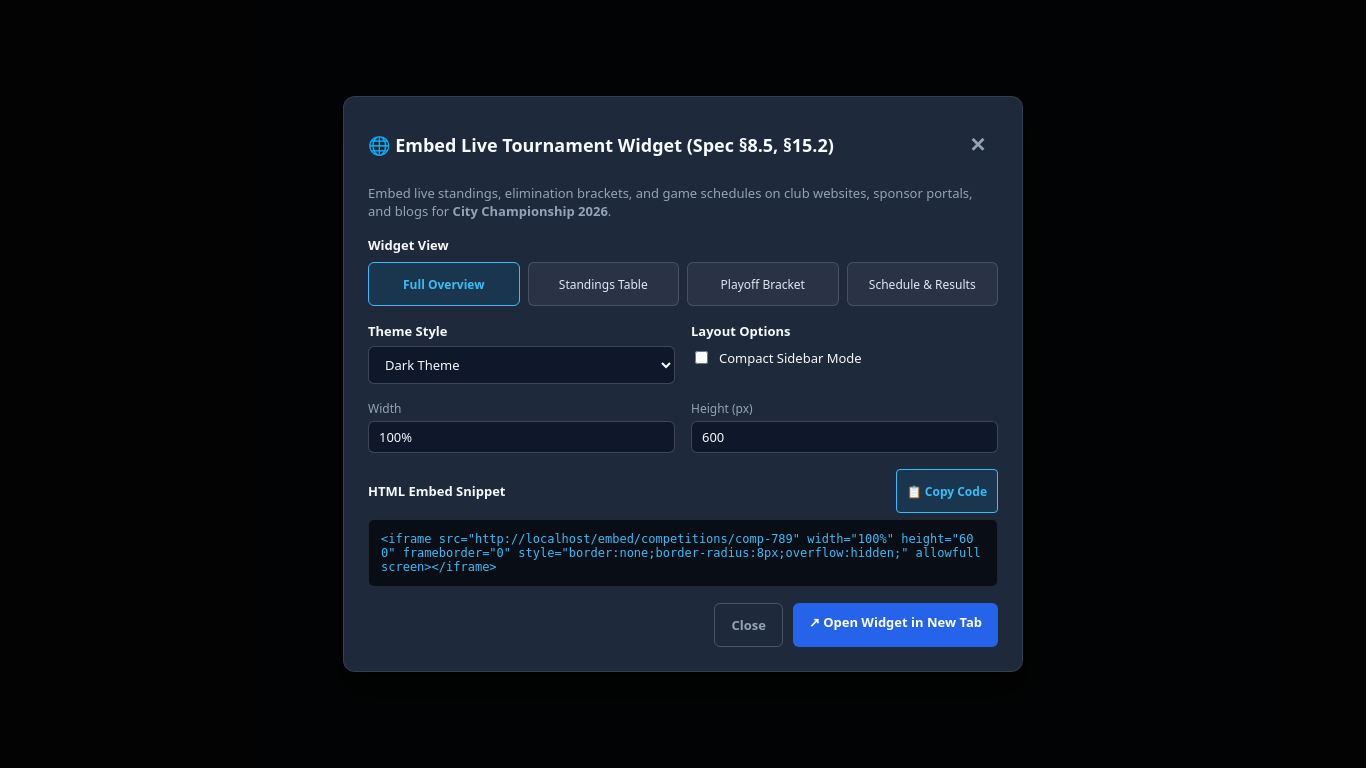
CompetitionEmbedModal Component (Spec §8.5, §15.2) › copies snippet to clipboard when Copy Code is clicked
Click the button "📋 Copy Code" at (947, 491), box [896, 469, 998, 513]
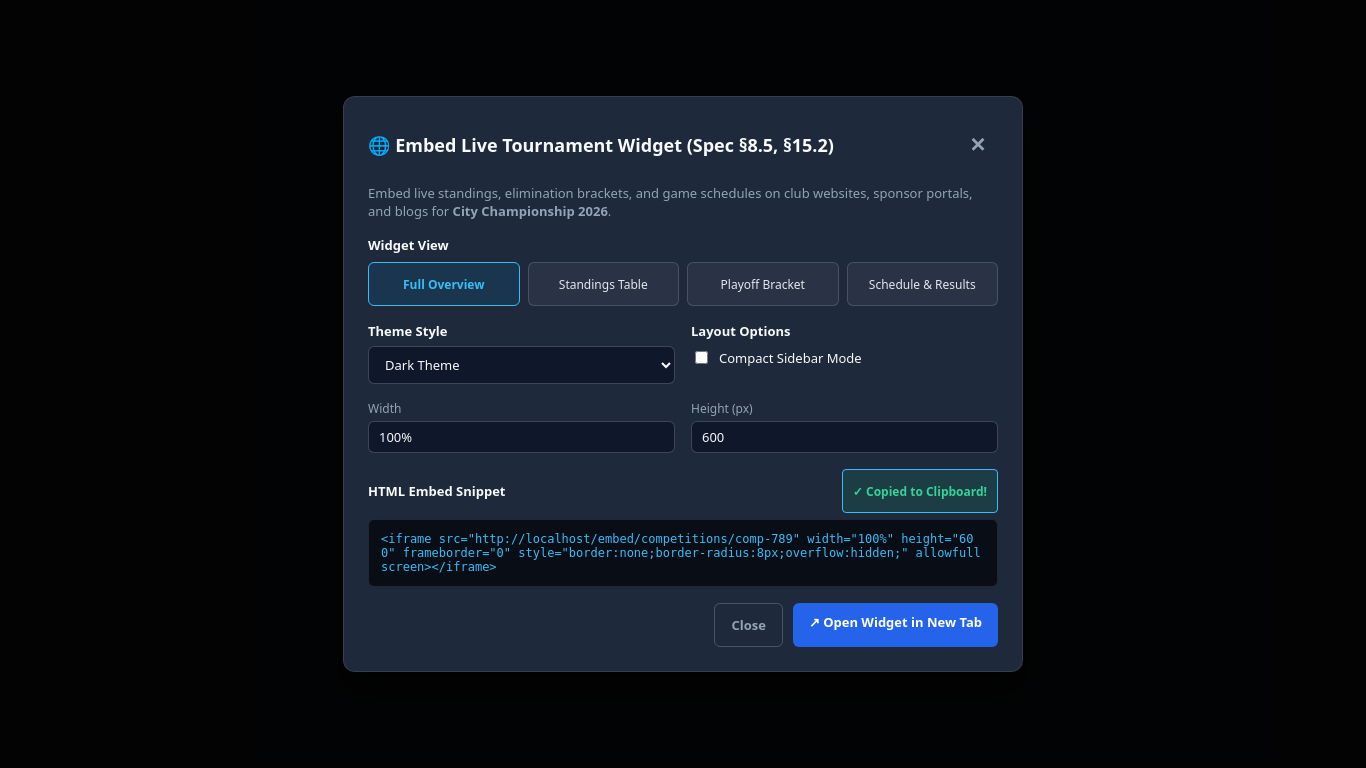
Result: the button "✓ Copied to Clipboard!" is shown at [842, 469, 998, 513]
